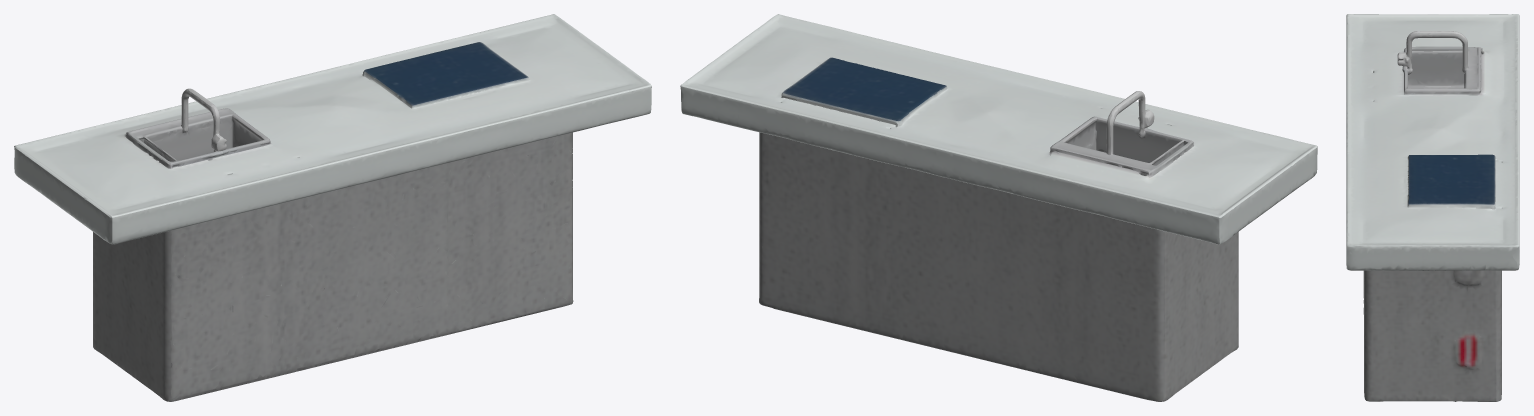
Rendered from item_bc529452.glb.
3 views of the same model, side by side, from view 1: azimuth 30°, elevation 25°; view 2: azimuth 150°, elevation 25°; view 3: azimuth 270°, elevation 25° (orthographic). The views are drawn at different scales.
Visible parts, largest first — view 1: world; view 2: world; view 3: world.
Part boxes in pixels (x1=…): world: x1=14, y1=14, x2=651, y2=401; world: x1=680, y1=14, x2=1317, y2=401; world: x1=1346, y1=14, x2=1519, y2=401.
Bounding box in the file's own units: 2.4 × 1.1 × 0.7568.
Materials: 1 (1 with a texture image).
